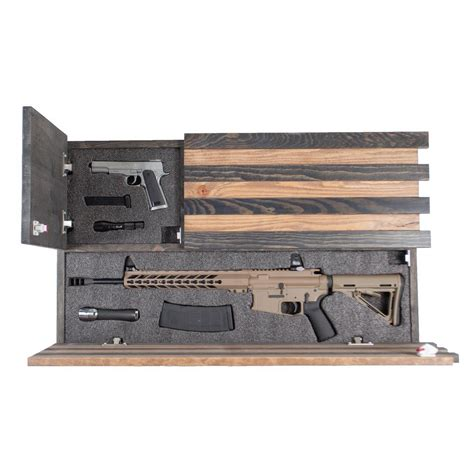gun: (70, 254, 404, 342), (86, 159, 169, 212)
